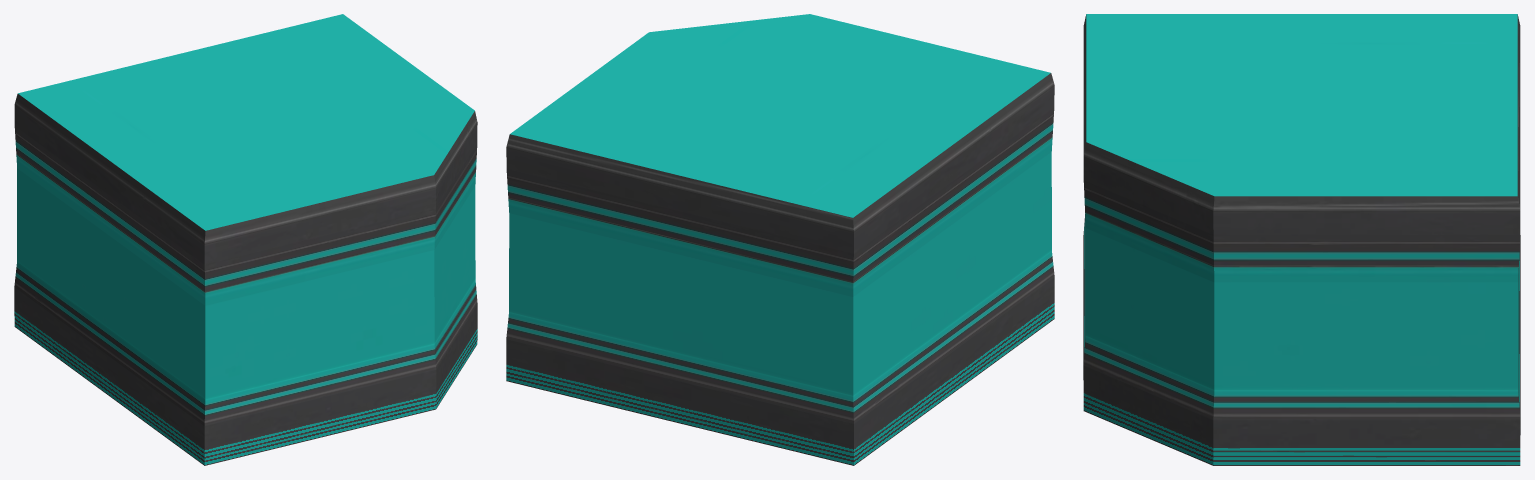
File: corner_rect90_teal.glb
The picture shows the model from 3 angles, left to right: view 1: azimuth 30°, elevation 25°; view 2: azimuth 150°, elevation 25°; view 3: azimuth 270°, elevation 25°; orthographic projection. The views are drawn at different scales.
Visible parts, largest first — view 1: corner_rect90_teal; view 2: corner_rect90_teal; view 3: corner_rect90_teal.
Part boxes in pixels (x1,y1,x2,y2): corner_rect90_teal: (14,14,477,465); corner_rect90_teal: (506,14,1054,465); corner_rect90_teal: (1083,14,1520,465).
Bounding box in the file's own units: 0.7399 × 0.5016 × 0.7399.
Materials: 1 (1 with a texture image).
